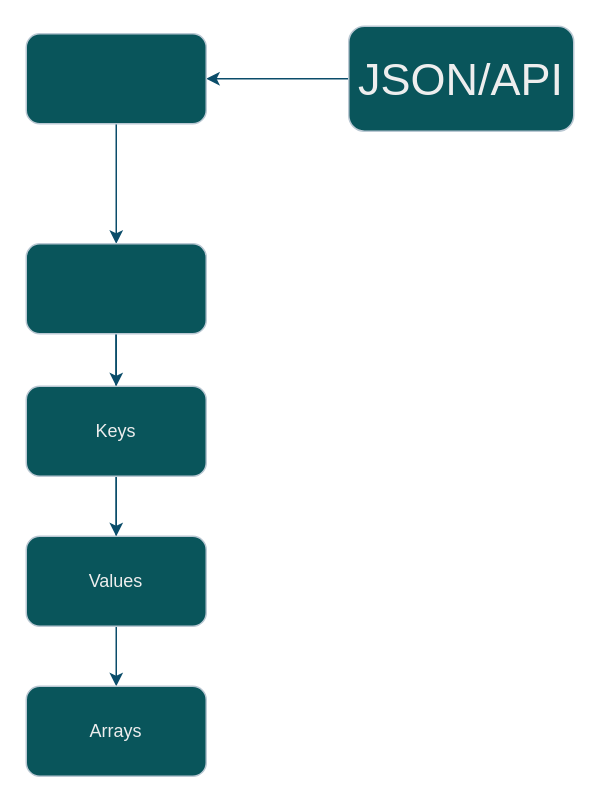
Image size: 600x803. Some labels were removed from this diagram. The centre of each missing label's shape, as x and y in pixels:
"Data Interface" goes at point 115,78.
"How Is JSON presented" goes at point 115,288.
